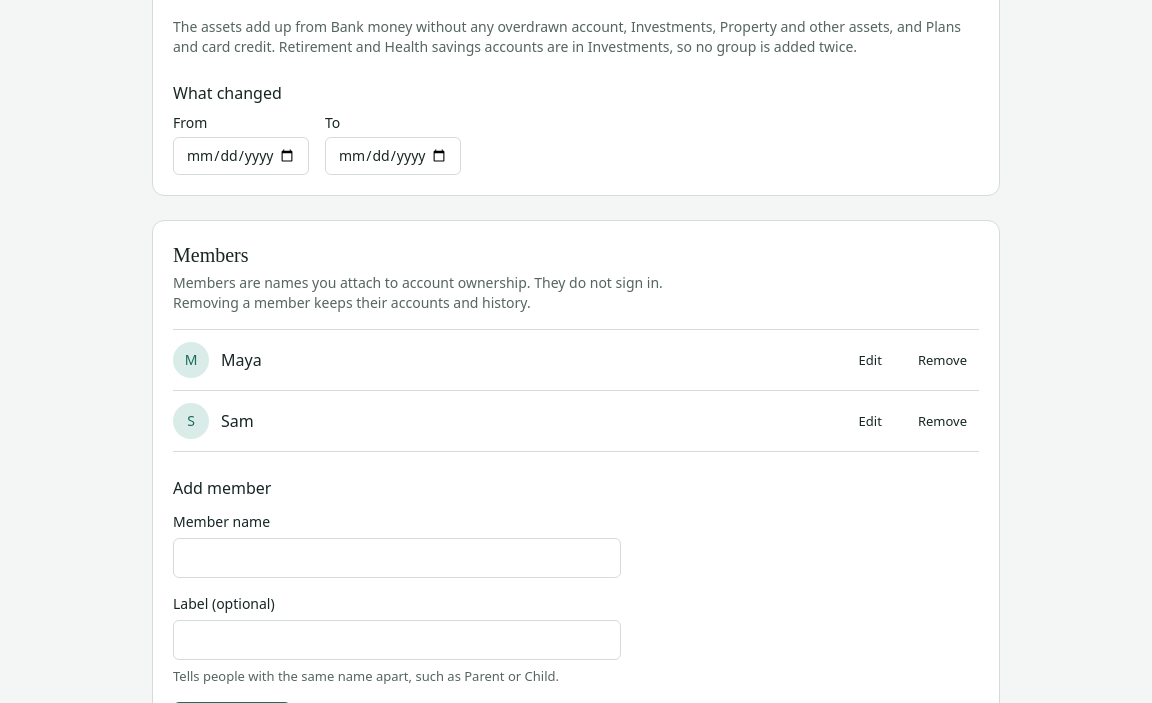
Test case: renaming a member › V2_MEMBERS_005 saving without a change closes the form without a review
(page scrolled)
Click the button with aria-label "Edit member Maya".
click(870, 360)  # box [847,344,894,376]
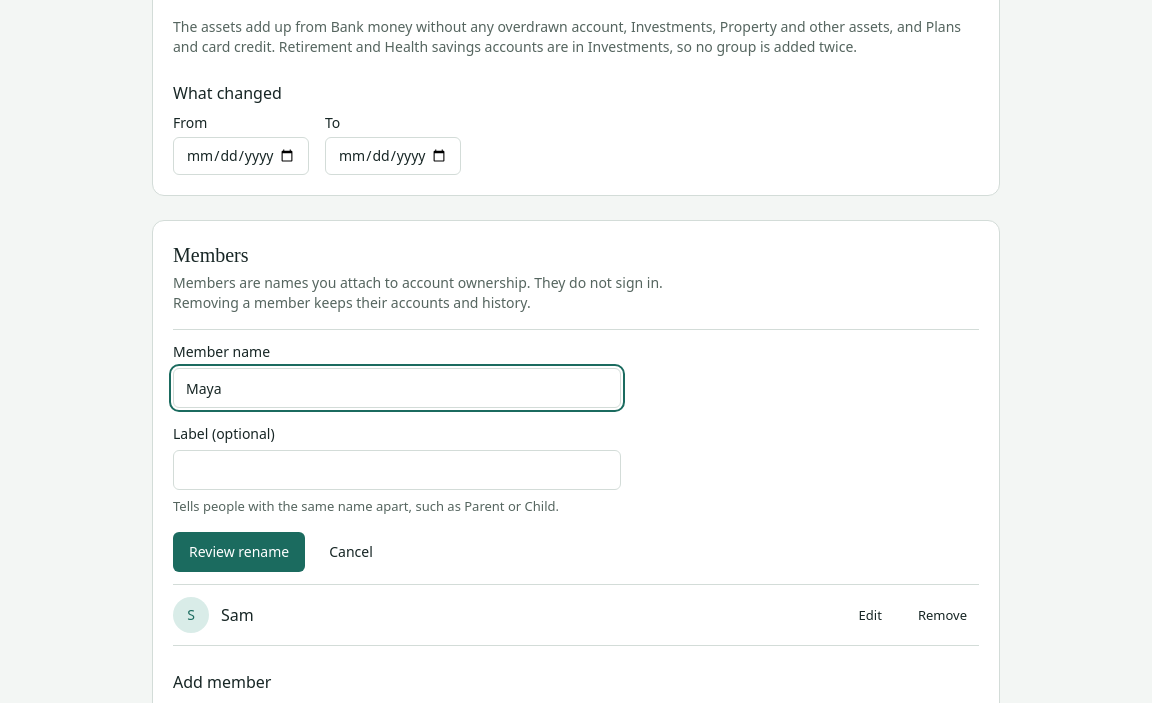
Click the button "Review rename".
click(239, 552)  # box [173,532,305,572]
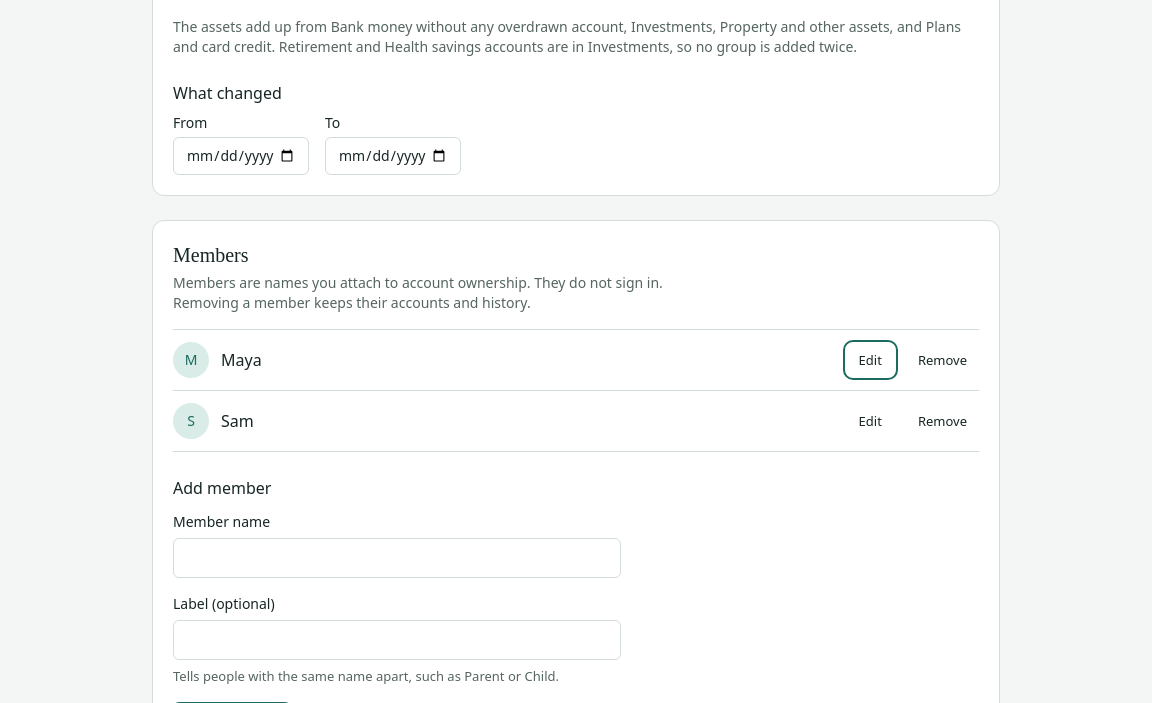
Expected: the button "Review rename" is gone
